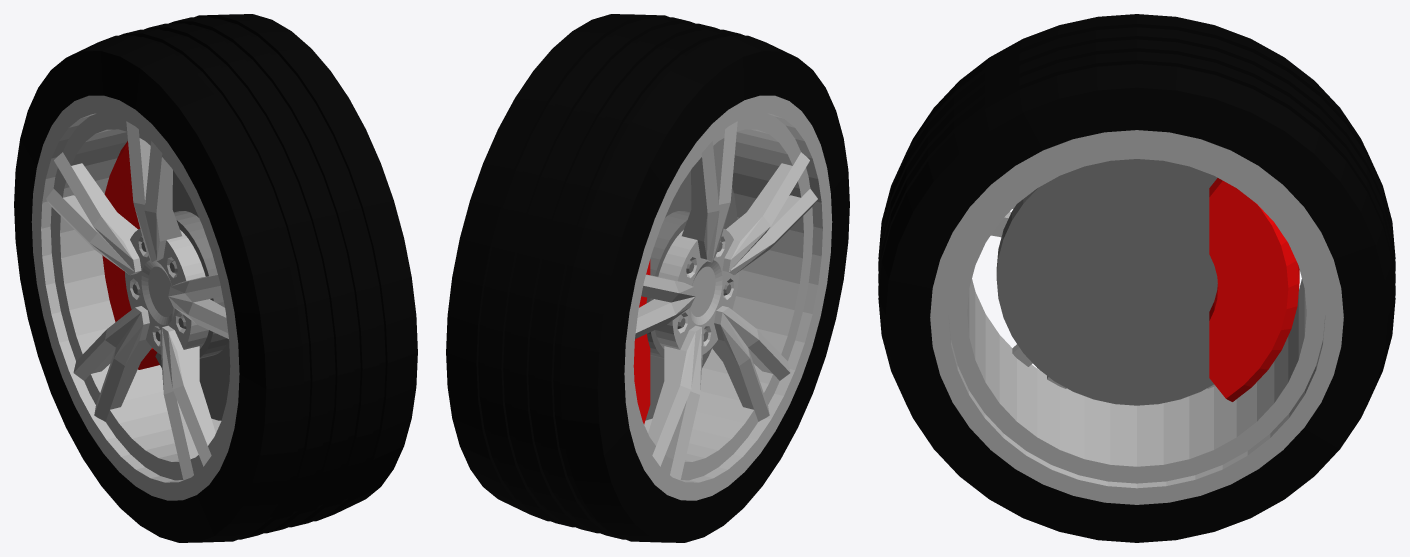
The model's file is wheel.fbx.
3 renders of one model, left to right at view 1: azimuth 30°, elevation 25°; view 2: azimuth 150°, elevation 25°; view 3: azimuth 270°, elevation 25°, orthographic.
Visible parts, largest first — view 1: tyre, rim, brake; view 2: tyre, rim, brake; view 3: tyre, rim, brake.
Part boxes in pixels (box(x1,y1,x2,y2)): tyre: box(14, 14, 417, 542); rim: box(46, 121, 230, 480); brake: box(102, 141, 159, 369); tyre: box(446, 14, 849, 542); rim: box(635, 121, 817, 480); brake: box(633, 259, 650, 424); tyre: box(878, 14, 1395, 542); rim: box(991, 159, 1217, 405); brake: box(1209, 178, 1299, 401).
Size of the model in its own units: 0.25 by 0.7 by 0.7.
